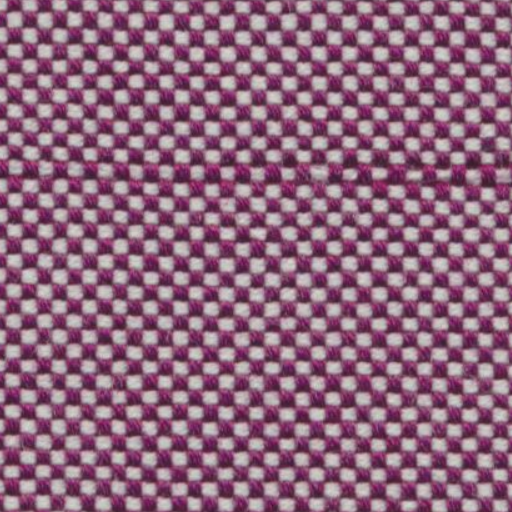TuoSha: (6, 140, 496, 210)
